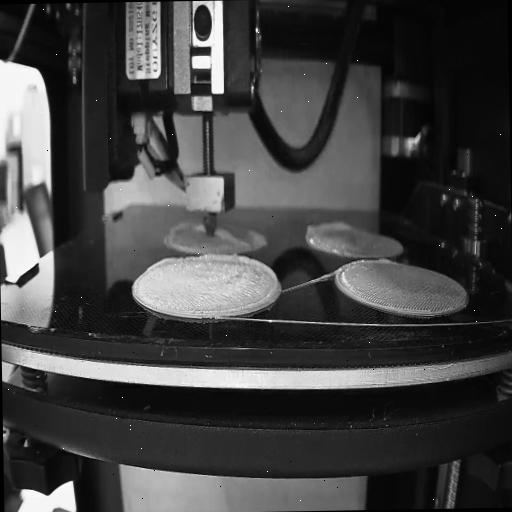over_extrusion: (196, 252, 280, 320), (302, 218, 354, 242), (146, 253, 179, 273), (214, 227, 246, 247), (188, 222, 206, 234), (377, 256, 396, 267)
